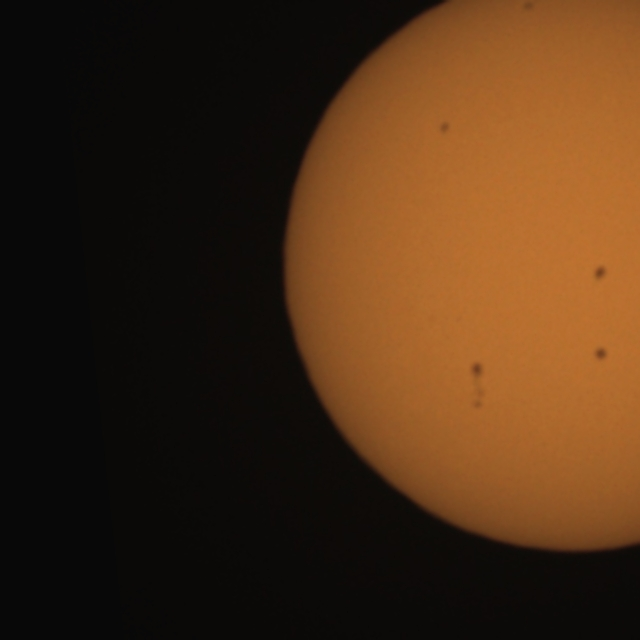sunspot: (468, 359, 486, 382), (592, 262, 610, 284), (592, 345, 610, 363), (519, 0, 539, 15), (437, 119, 452, 136)
